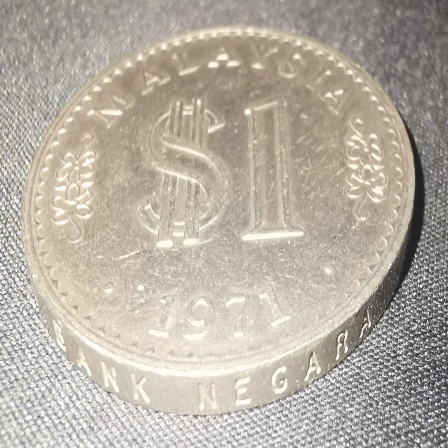1r: (22, 24, 417, 420)
